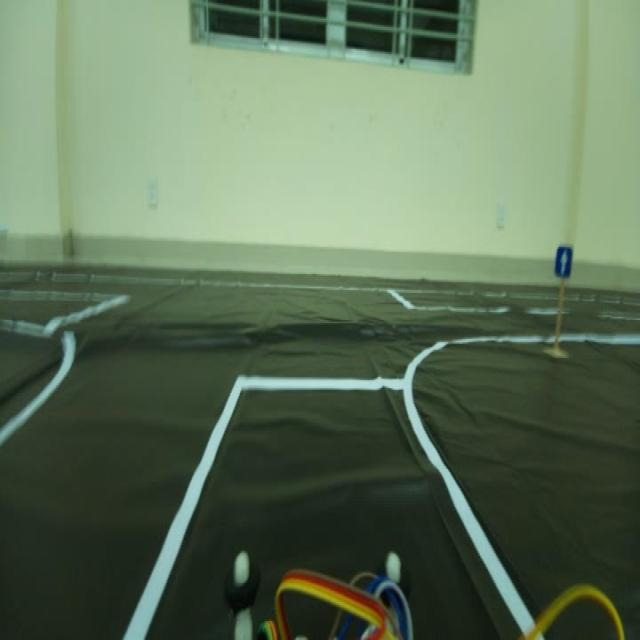onewayroad: (552, 238, 576, 284)
